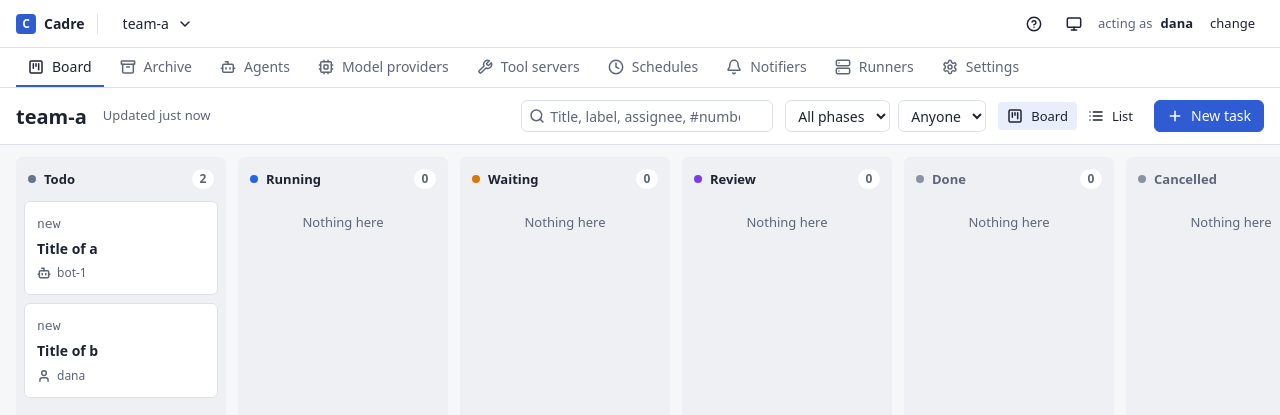
Scenario: Board › keeps the assignees read before as options while one is chosen
The width and height of the screenshot is (1280, 415).
Expected: the link "Title of b" is shown, 37,341 -> 98,360
Select "dana" in the 2nd dropdown named "Assignee" at (942, 116), box 898,100 -> 986,132
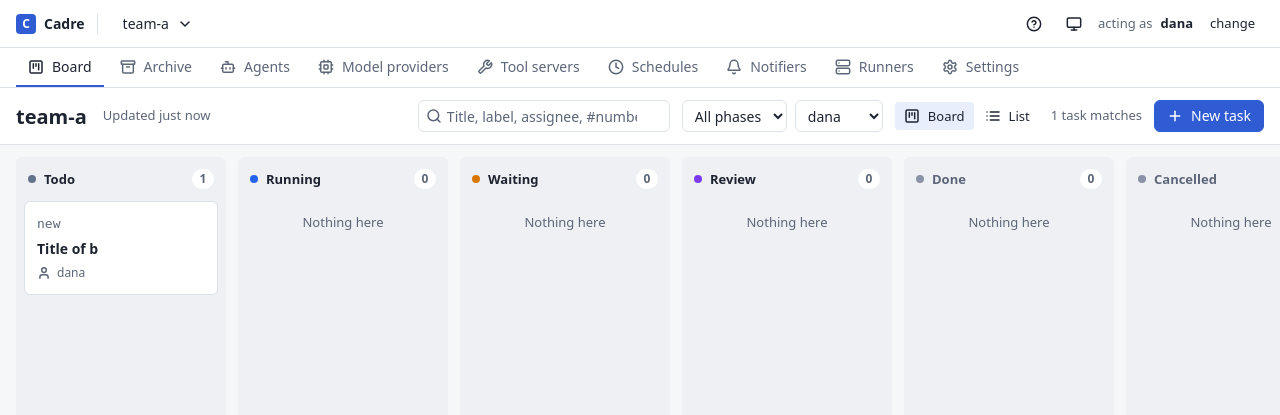
Result: the link "Title of a" is gone
